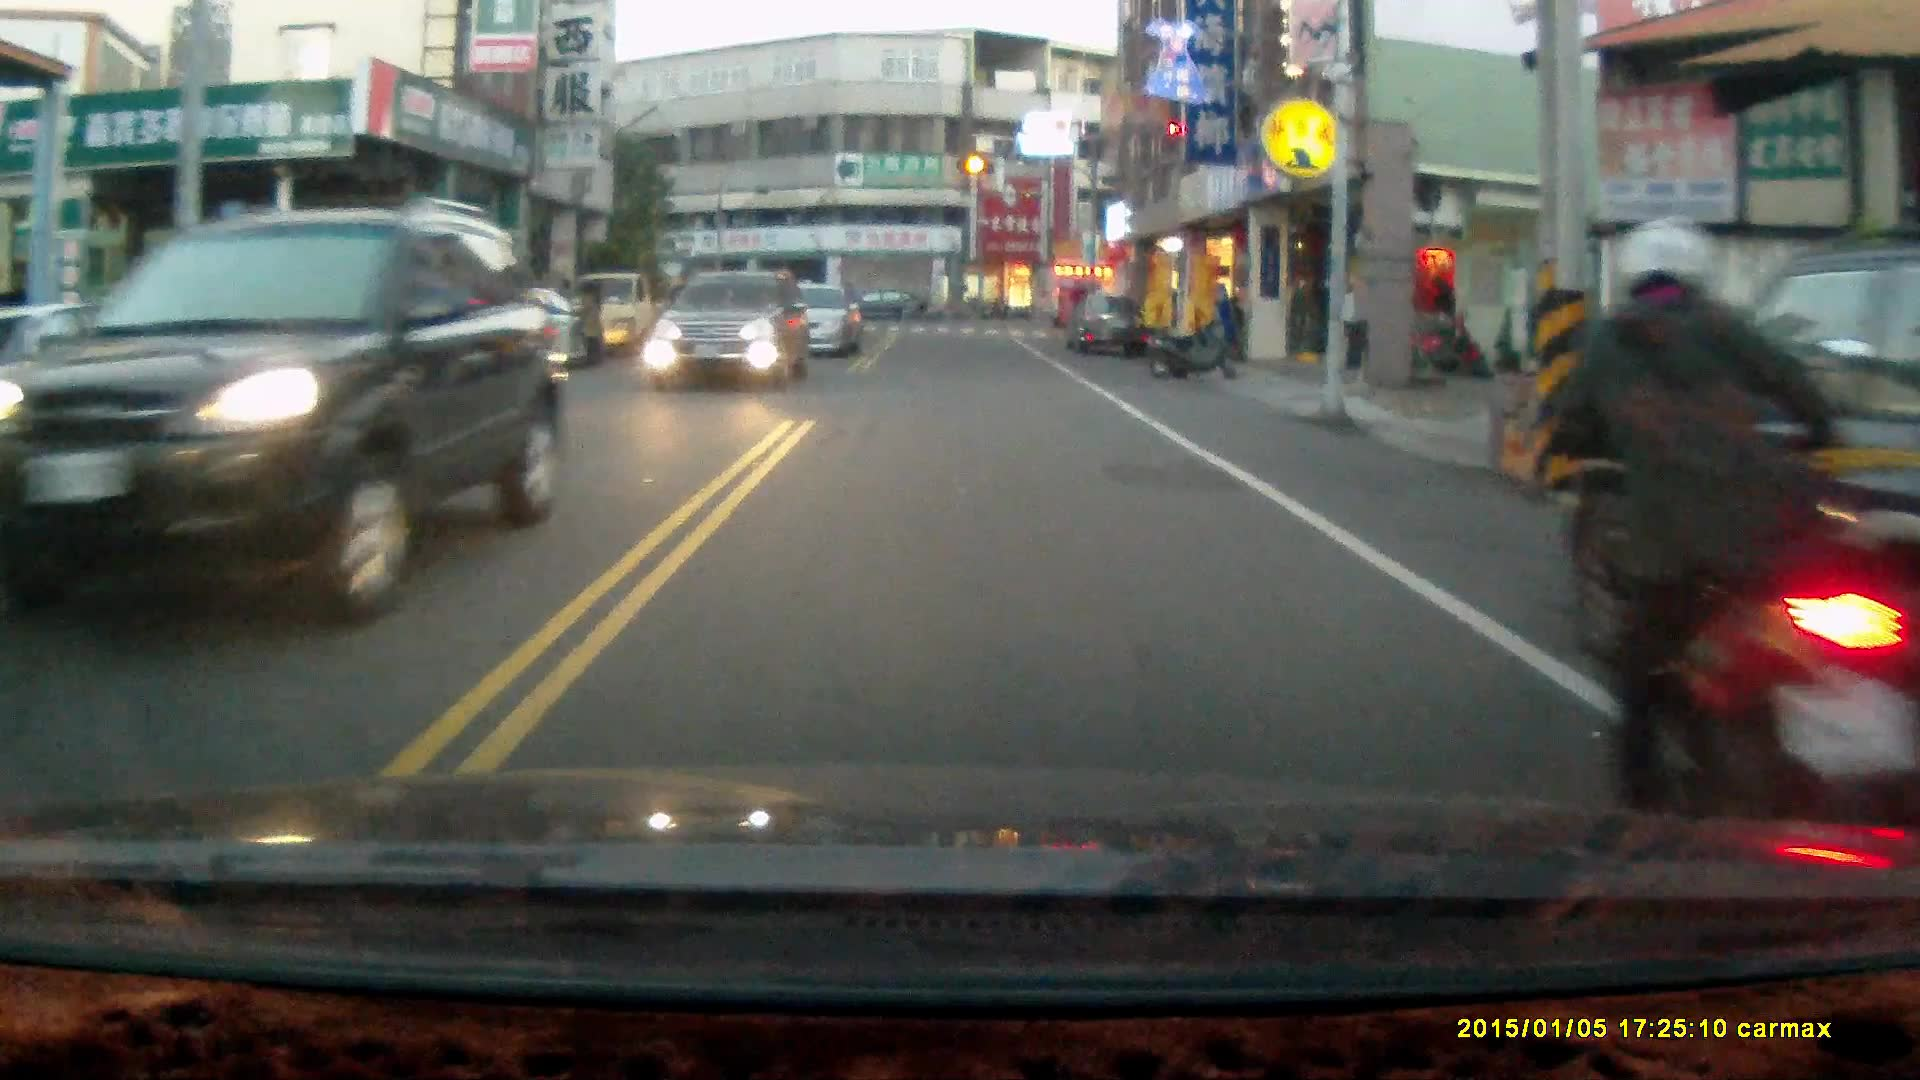pedestrian: (574, 278, 603, 369)
rider: (1552, 216, 1913, 839)
vehicle: (7, 199, 570, 622), (1585, 248, 1920, 757), (650, 268, 807, 395), (748, 281, 866, 361), (1064, 289, 1146, 357), (825, 286, 937, 327)
